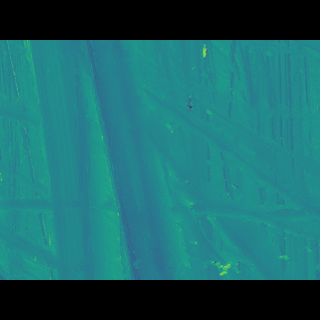Loch: (26, 71, 302, 249)
